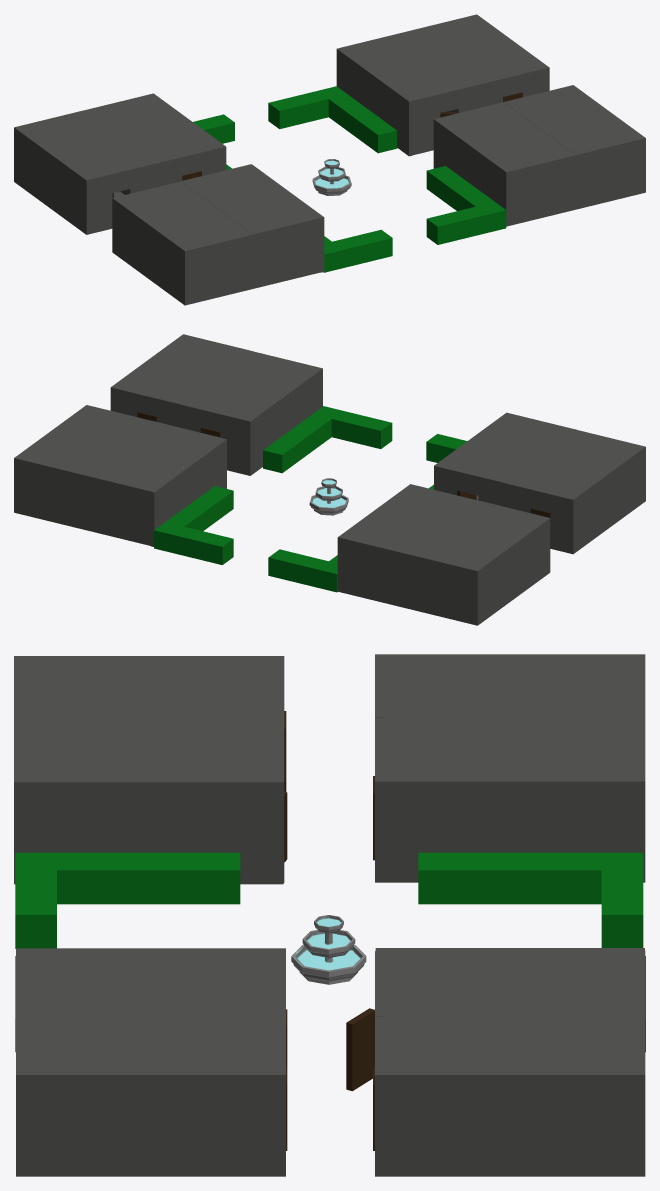
Rendered from macbeth_scene.glb.
3 renders of one model, top to bottom at view 1: azimuth 30°, elevation 25°; view 2: azimuth 150°, elevation 25°; view 3: azimuth 270°, elevation 25°, orthographic. The views are drawn at different scales.
Parts seen in each view (by area): view 1: room6, room2, room8, room5, room1, room4, room7, room3, shrub3, shrub1, Cube, shrub2 (+2 smaller); view 2: room8, room6, room2, room7, room3, room4, room5, room1, shrub1, shrub3, Cube, shrub4 (+2 smaller); view 3: room3, room1, room7, Cube.001, room5, room8, room2, room4, room6, shrub4, shrub2, fountain (+2 smaller).
Part boxes in pixels (x1,y1,x2,y2): room6: (112,181,253,305); room2: (433,102,576,226); room8: (14,110,156,234); room5: (181,164,323,288); room1: (504,85,645,209); room4: (340,31,484,155); room7: (84,93,226,194); room3: (407,14,549,112); shrub3: (268,86,397,153); shrub1: (426,166,506,244); Cube: (336,48,412,156); shrub2: (323,229,392,272); room8: (407,501,550,625); room6: (503,430,645,554); room2: (180,351,322,475); room7: (337,484,479,608); room3: (14,405,153,529); room4: (84,420,223,545); room5: (434,413,576,506); room1: (110,334,252,427); shrub1: (263,406,392,473); shrub3: (154,486,233,564); Cube: (151,438,226,546); shrub4: (268,549,337,592); room3: (375,1011,645,1176); room1: (16,1011,285,1176); room7: (375,718,645,882); Cube.001: (14,781,283,884); room5: (14,718,284,882); room8: (375,654,645,717); room2: (16,948,285,1011); room4: (375,950,645,1016); room6: (14,656,284,717); shrub4: (418,852,643,947); shrub2: (15,852,240,948); fountain: (291,915,366,984).
Size of the model in its own units: 265 by 31.31 by 168.
5 materials, 5 textured.
